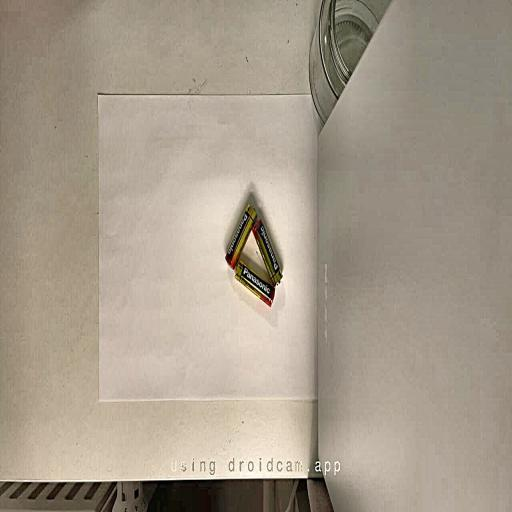PanasonicAA: (225, 204, 257, 269), (252, 218, 282, 286), (235, 260, 274, 306)
